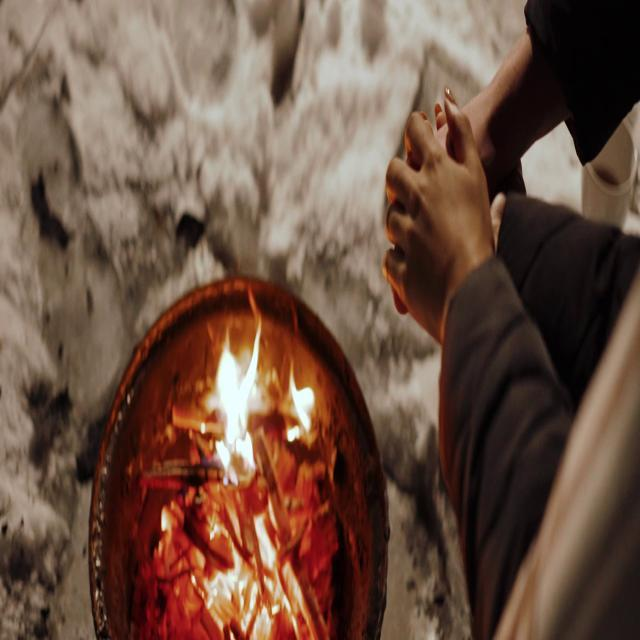Fire: (186, 302, 320, 638)
